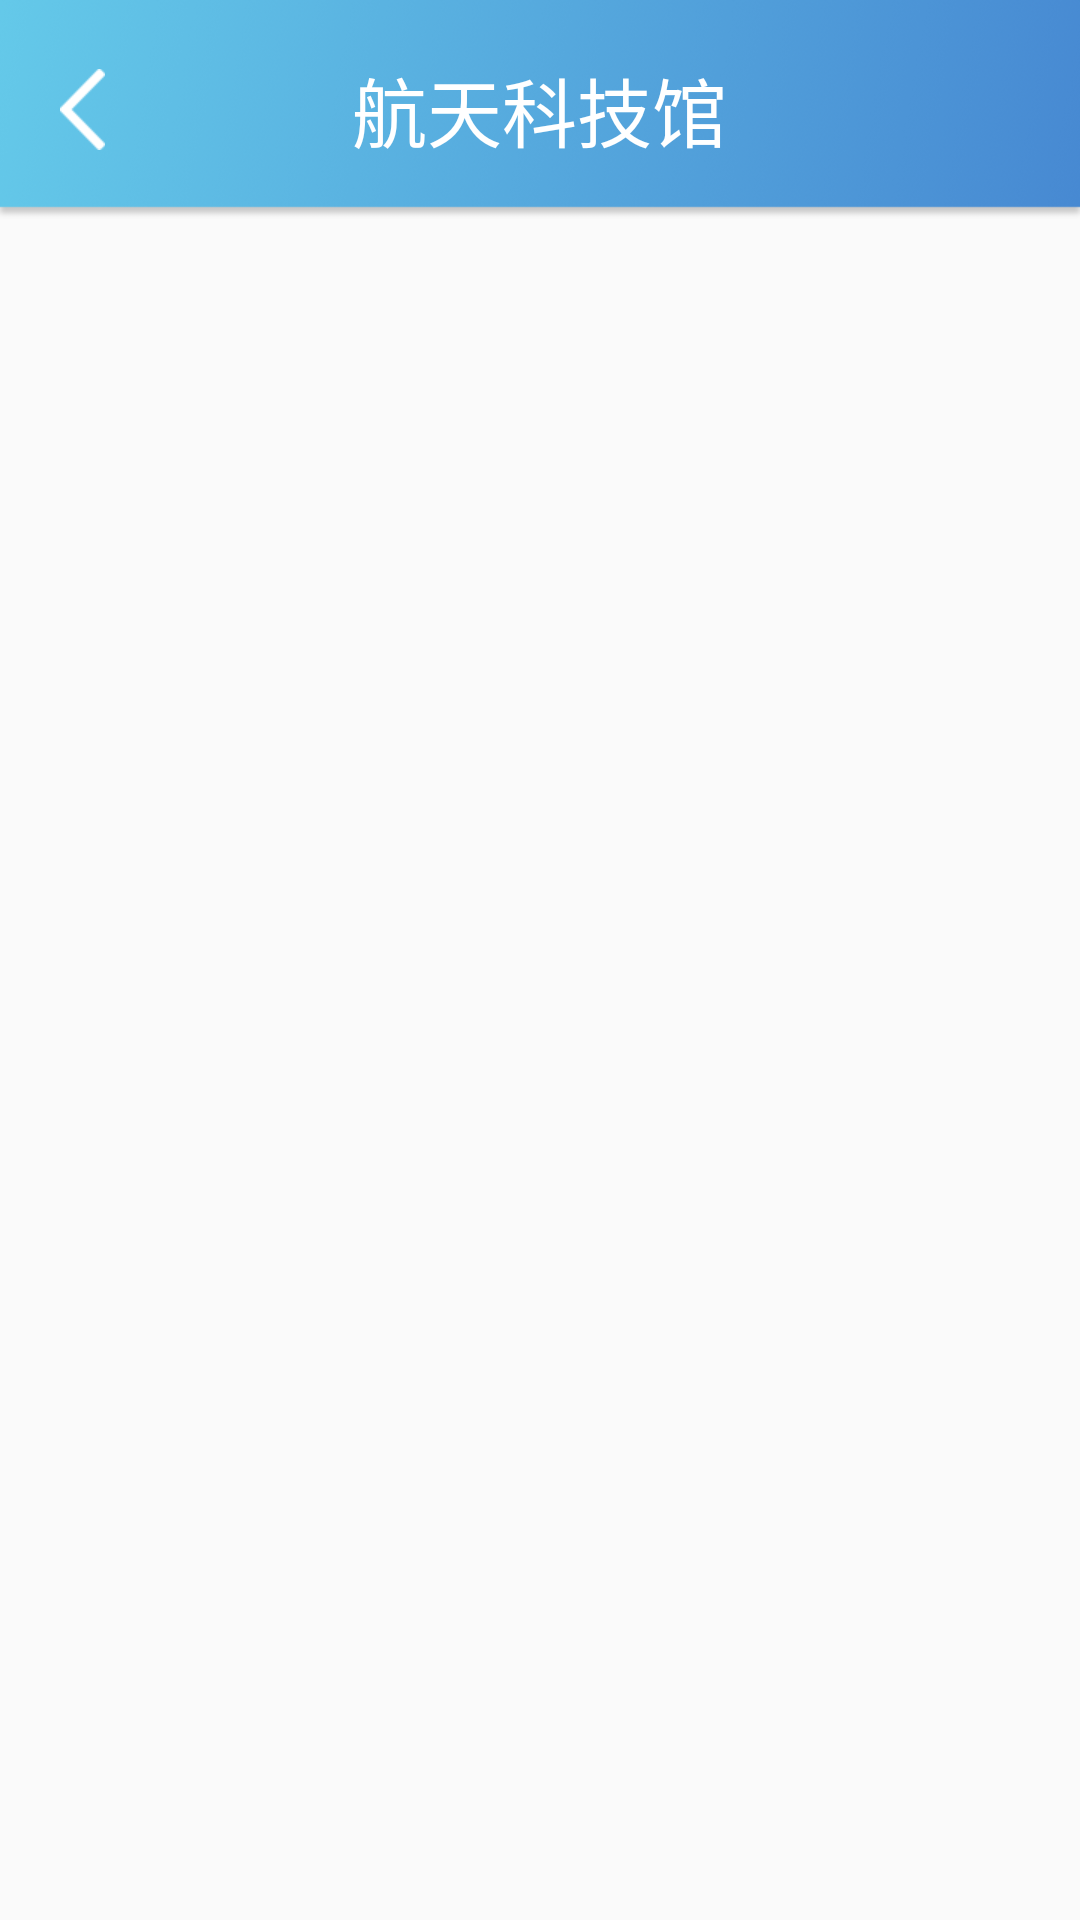

Named icons in this screenshot (1080x1920) and their bounding boxes, (x1, y1, x2, y2):
back: (60, 69, 105, 150)
